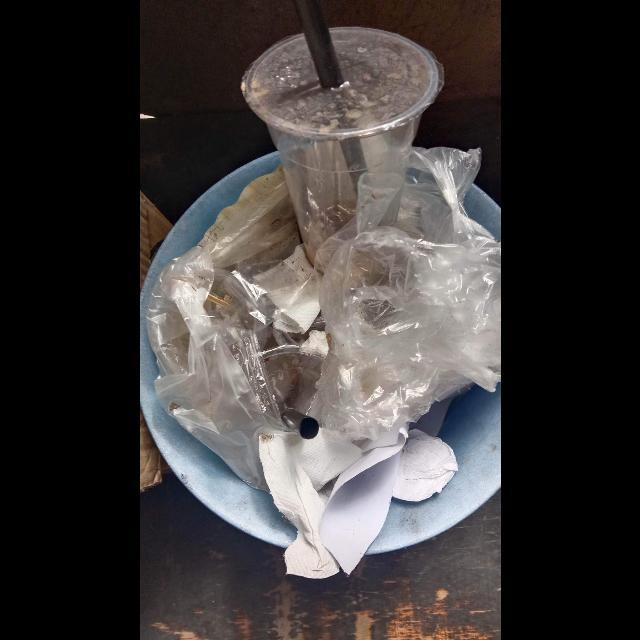paper: (259, 431, 361, 578), (319, 422, 409, 574), (391, 429, 457, 500)
plastic: (308, 148, 501, 438), (241, 28, 445, 267), (149, 177, 299, 492)
